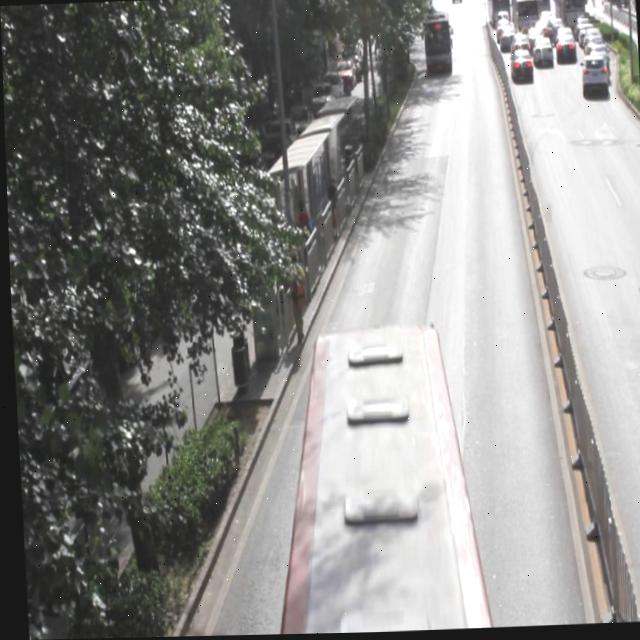van: (260, 326, 486, 636)
